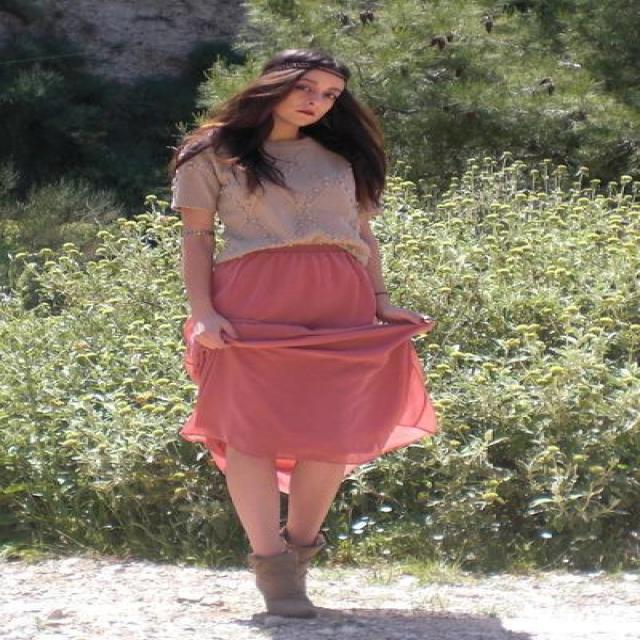shirt: (170, 126, 390, 260)
shoe: (226, 528, 322, 619)
skirt: (186, 241, 443, 473)
